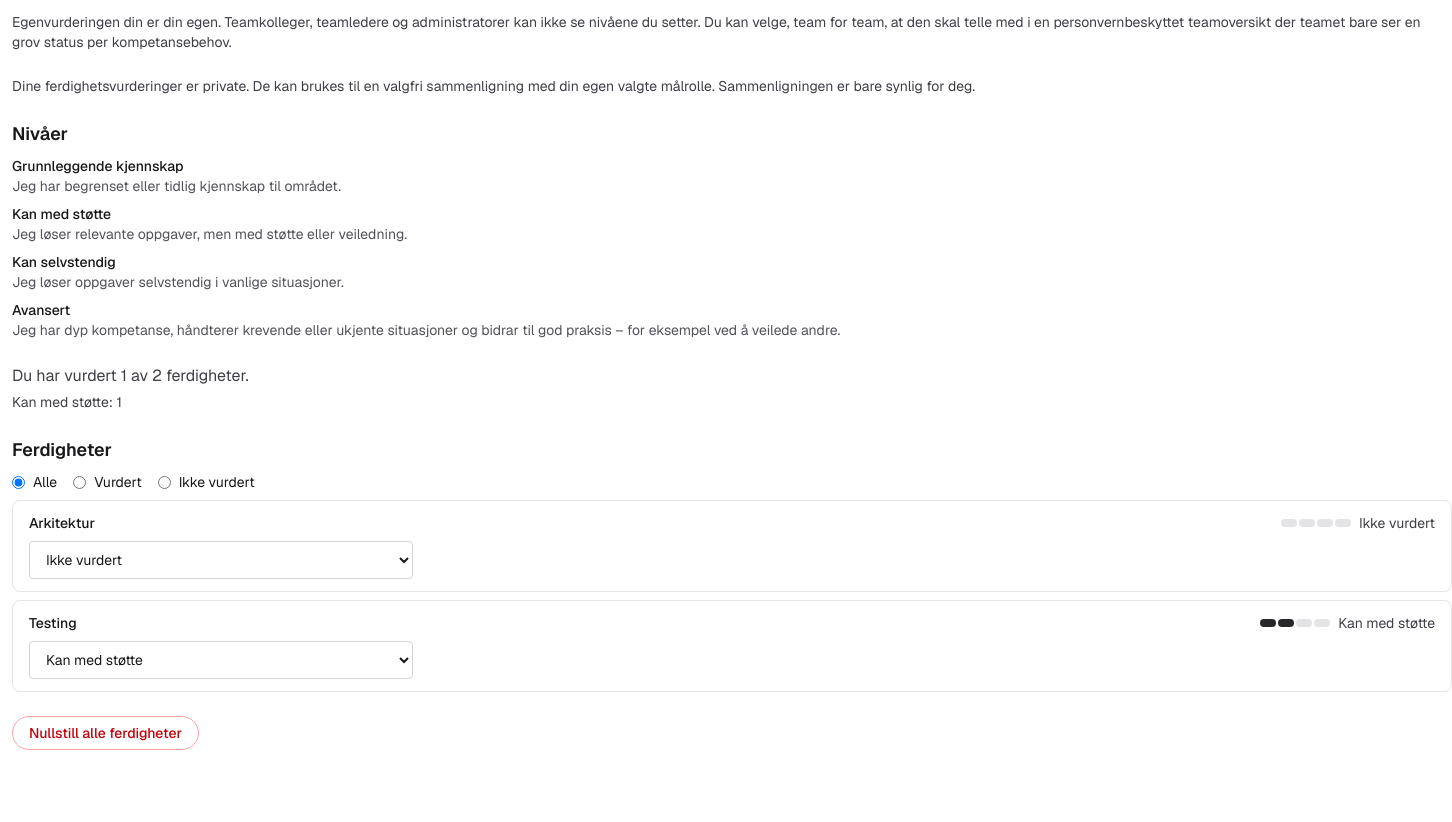
Test: SkillProfilePage — level select (TASK-008) › choosing a level sends one PUT and applies the result to row, indicator and overview without refetching
Check: the text "Egenvurderingen din er din egen" is shown, box [12,13,1420,51]
Select "Avansert" in the dropdown labelled "Arkitektur" at [221, 560], box [29,541,413,579]
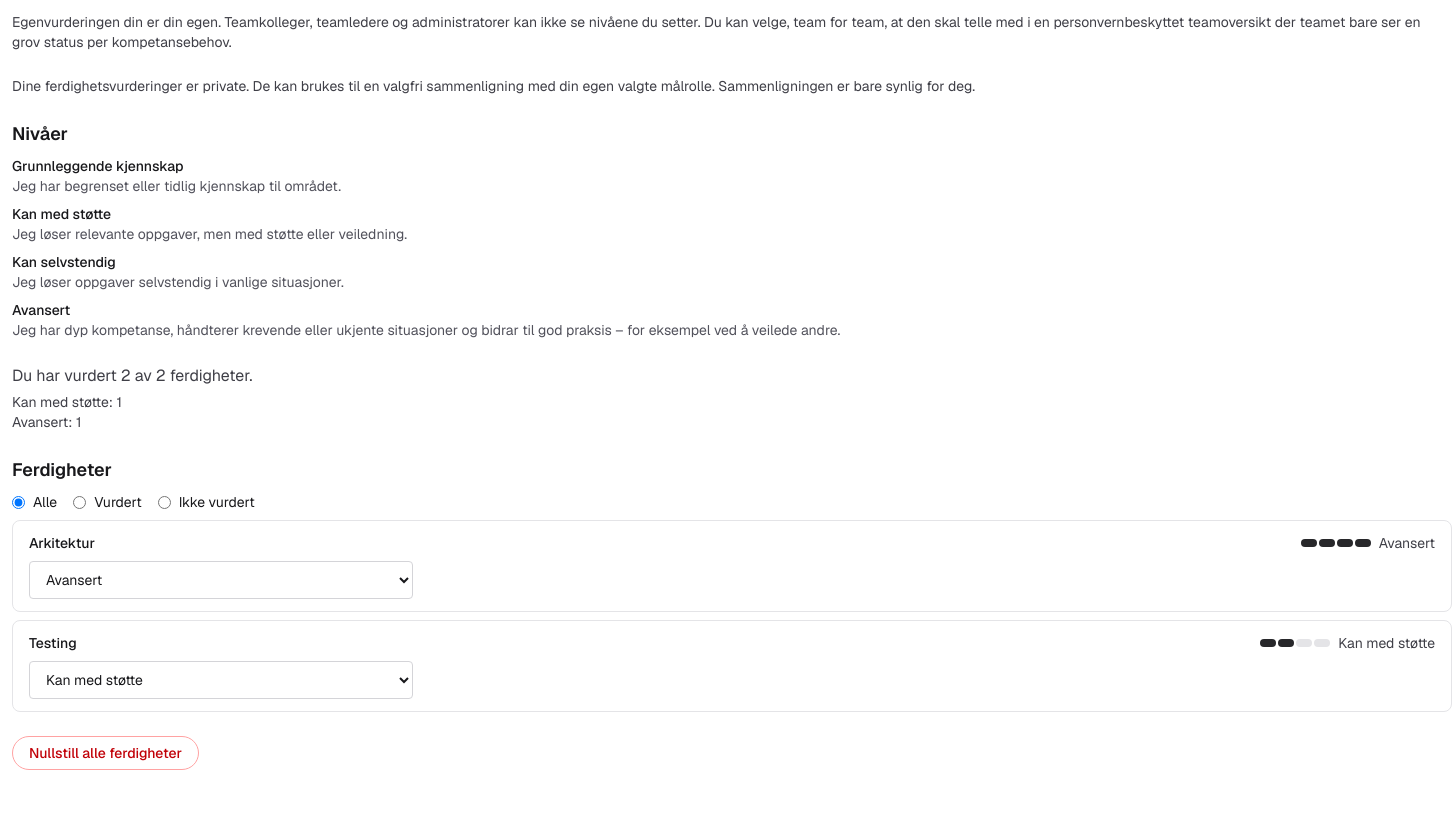
Check: the list item "Arkitektur" shows "Avansert", box [1379,534,1435,552]
Check: the text "Du har vurdert 2 av 2 ferdigheter." is shown, box [12,365,252,386]
Check: the list item "Avansert: 1" is shown, box [12,413,81,431]
